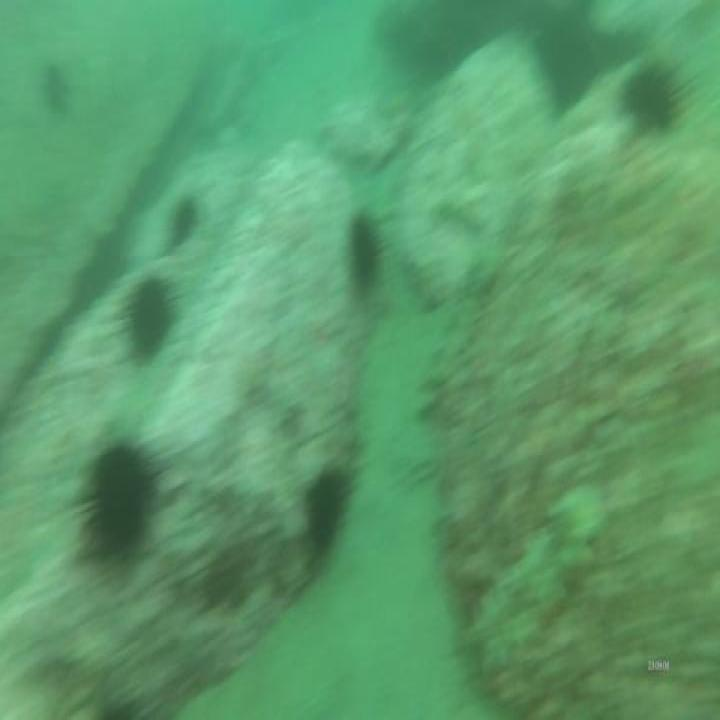echinus: (73, 434, 164, 565), (120, 272, 185, 368), (301, 453, 361, 555), (615, 55, 685, 135), (346, 203, 384, 293), (168, 194, 197, 249)
holothurian: (446, 483, 604, 681)
